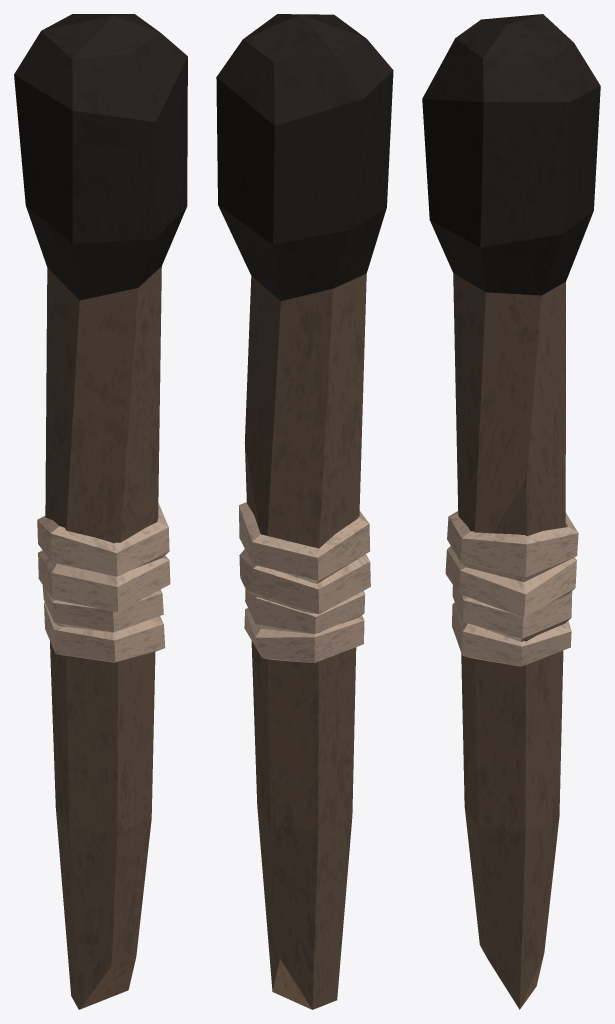
The model's file is torch.glb.
3 renders of one model, left to right at view 1: azimuth 30°, elevation 25°; view 2: azimuth 150°, elevation 25°; view 3: azimuth 270°, elevation 25°, orthographic.
Visible parts, largest first — view 1: Torch; view 2: Torch; view 3: Torch.
Boxes of the visible parts, x1=… form: Torch: x1=14, y1=14, x2=187, y2=1009; Torch: x1=216, y1=14, x2=393, y2=1009; Torch: x1=422, y1=14, x2=600, y2=1009.
Size of the model in its own units: 0.1944 by 1.27 by 0.2105.
Materials: 1 (1 with a texture image).
